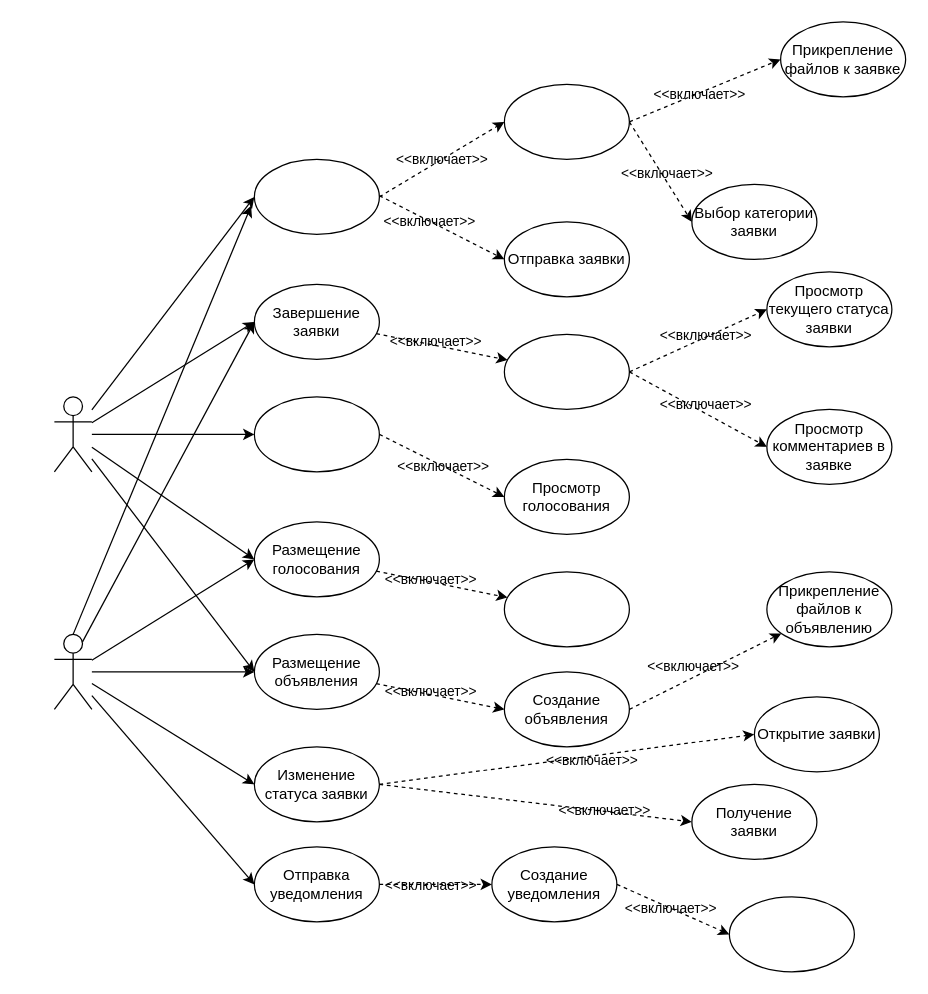
Image size: 928x994. Some labels were removed from this diagram. The shapes that lost their labels are listed below. From the top down, each one's centre as x and y in pixels, then its label:
At [566,121]: "Создание заявки".
At [316,196]: "Формирование заявки".
At [566,371]: "Просмотр заявки".
At [72,434]: "Пользователь собственник".
At [316,434]: "Участие в голосовании".
At [566,609]: "Создание голосования".
At [72,671]: "Пользователь представитель".
At [791,934]: "Прикрепление файлов к уведомлению".
